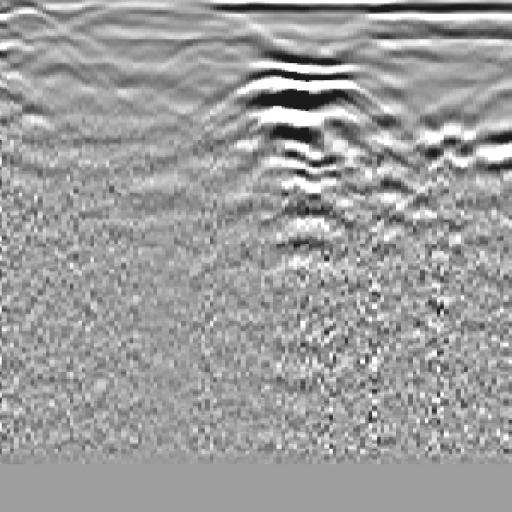metalic: (189, 38, 427, 172)
